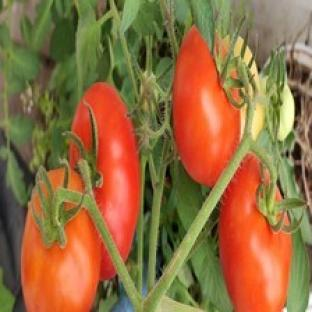Tomato: (72, 83, 139, 260), (219, 155, 291, 311), (173, 27, 239, 186), (21, 208, 101, 311), (278, 83, 295, 140), (251, 102, 264, 139)
